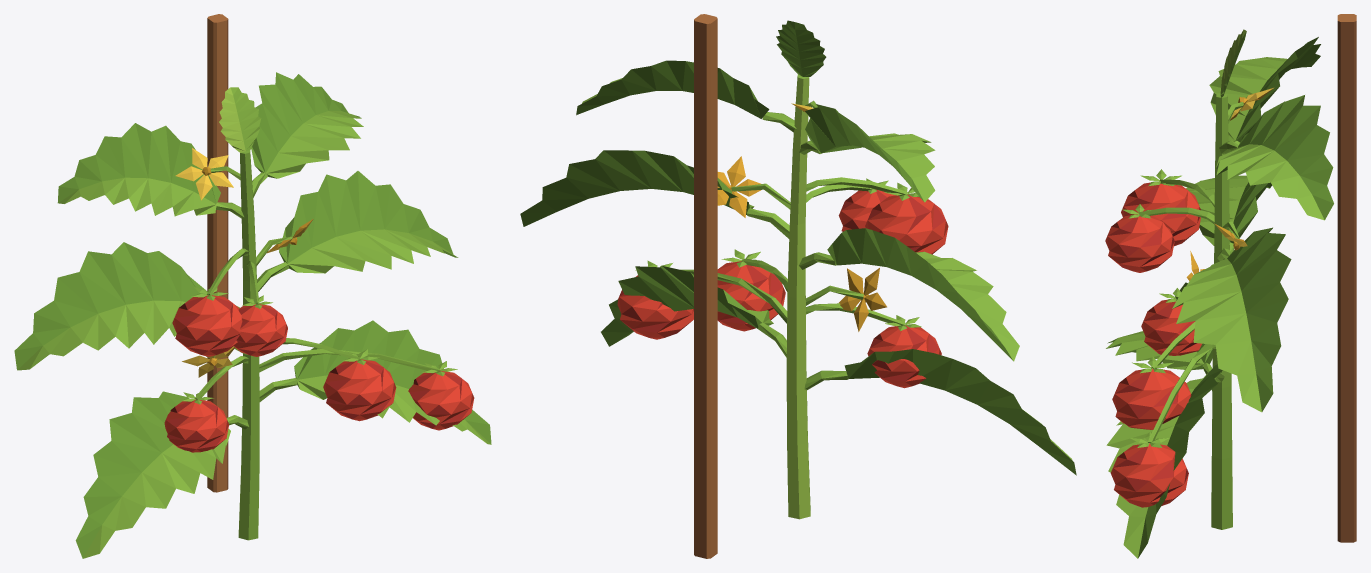
The model's file is FMS_Crop_Tomato_S3.fbx.
3 views of the same model, side by side, from view 1: azimuth 30°, elevation 25°; view 2: azimuth 150°, elevation 25°; view 3: azimuth 270°, elevation 25° (orthographic). The views are drawn at different scales.
Parts seen in each view (by area): view 1: FMS_Crop_Tomato_S3; view 2: FMS_Crop_Tomato_S3; view 3: FMS_Crop_Tomato_S3.
Part boxes in pixels (x1=…): FMS_Crop_Tomato_S3: x1=14, y1=14, x2=491, y2=558; FMS_Crop_Tomato_S3: x1=520, y1=14, x2=1076, y2=558; FMS_Crop_Tomato_S3: x1=1105, y1=14, x2=1356, y2=558.
Bounding box in the file's own units: 0.7543 × 0.7805 × 0.3417.
